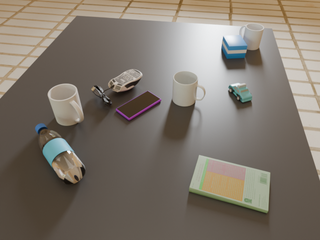book: (189, 155, 270, 213)
bottle: (35, 124, 86, 185)
box: (221, 35, 248, 59)
cup: (48, 84, 84, 126), (172, 71, 205, 106), (240, 23, 264, 50)
mouse: (108, 70, 142, 92)
phone: (116, 91, 161, 120)
toy_car: (228, 83, 252, 102)
